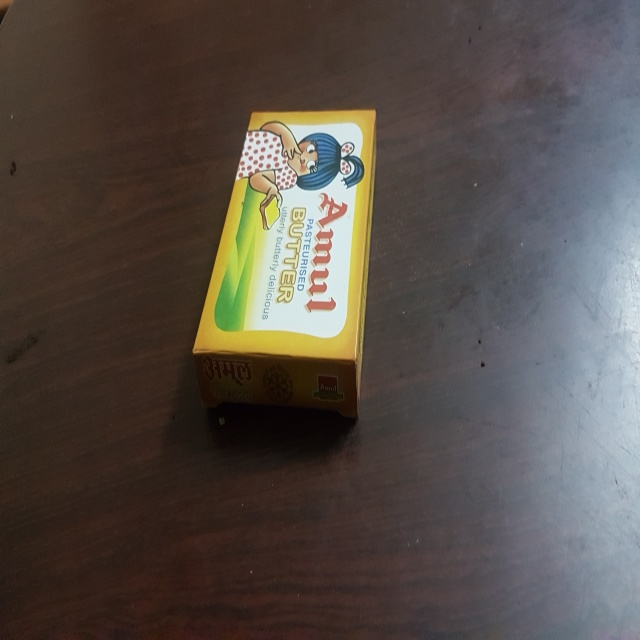butter: (184, 98, 385, 428)
